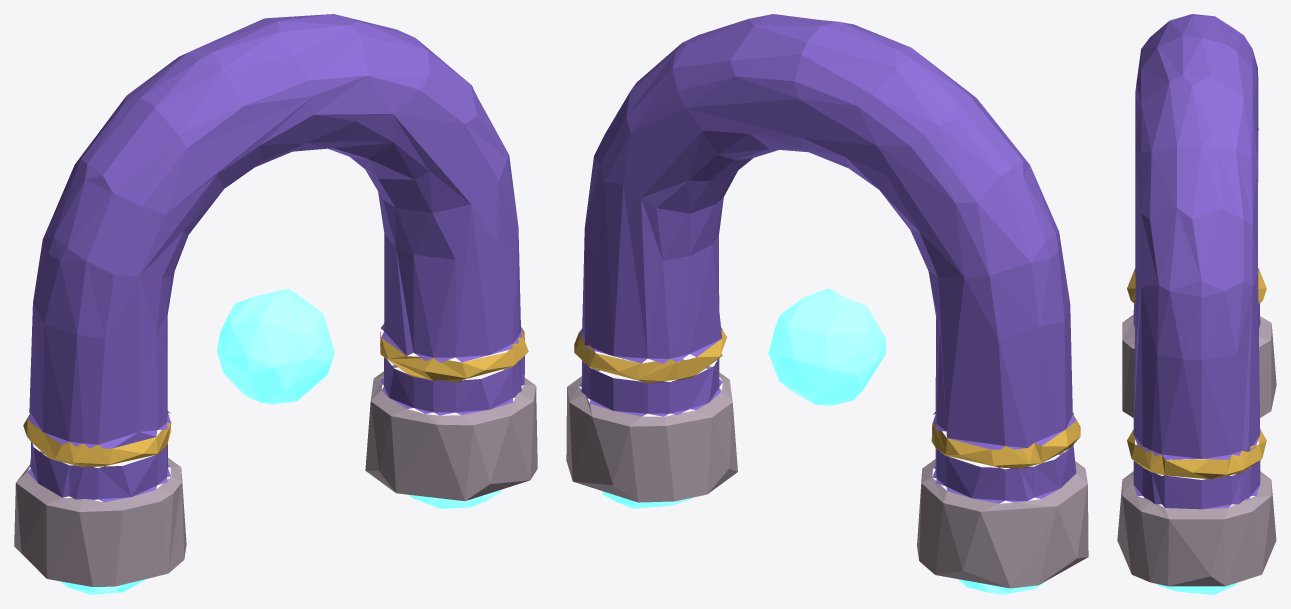
Rendered from pickup_magnet.glb.
3 views of the same model, side by side, from view 1: azimuth 30°, elevation 25°; view 2: azimuth 150°, elevation 25°; view 3: azimuth 270°, elevation 25° (orthographic). The views are drawn at different scales.
Visible parts, largest first — view 1: pickup_magnet; view 2: pickup_magnet; view 3: pickup_magnet.
Part boxes in pixels (x1,y1,x2,y2): pickup_magnet: (14,14,537,594); pickup_magnet: (566,14,1088,594); pickup_magnet: (1117,14,1276,594).
Size of the model in its own units: 0.3422 by 0.3355 by 0.1029.
